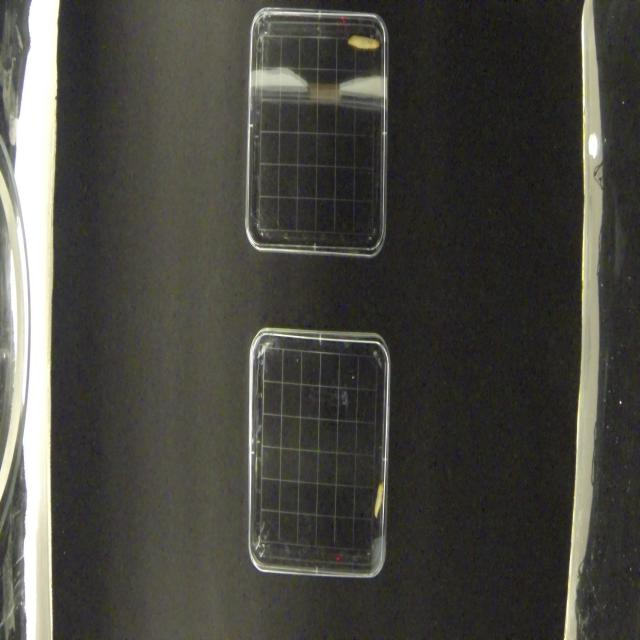larva: (371, 476, 385, 520), (347, 34, 381, 52)
